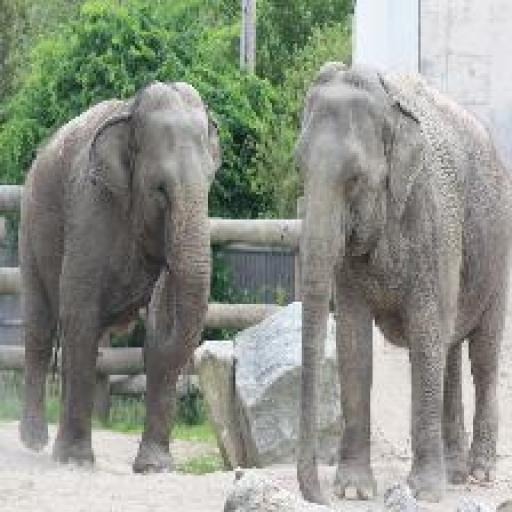Elephant: (290, 59, 510, 503), (16, 78, 222, 473)
